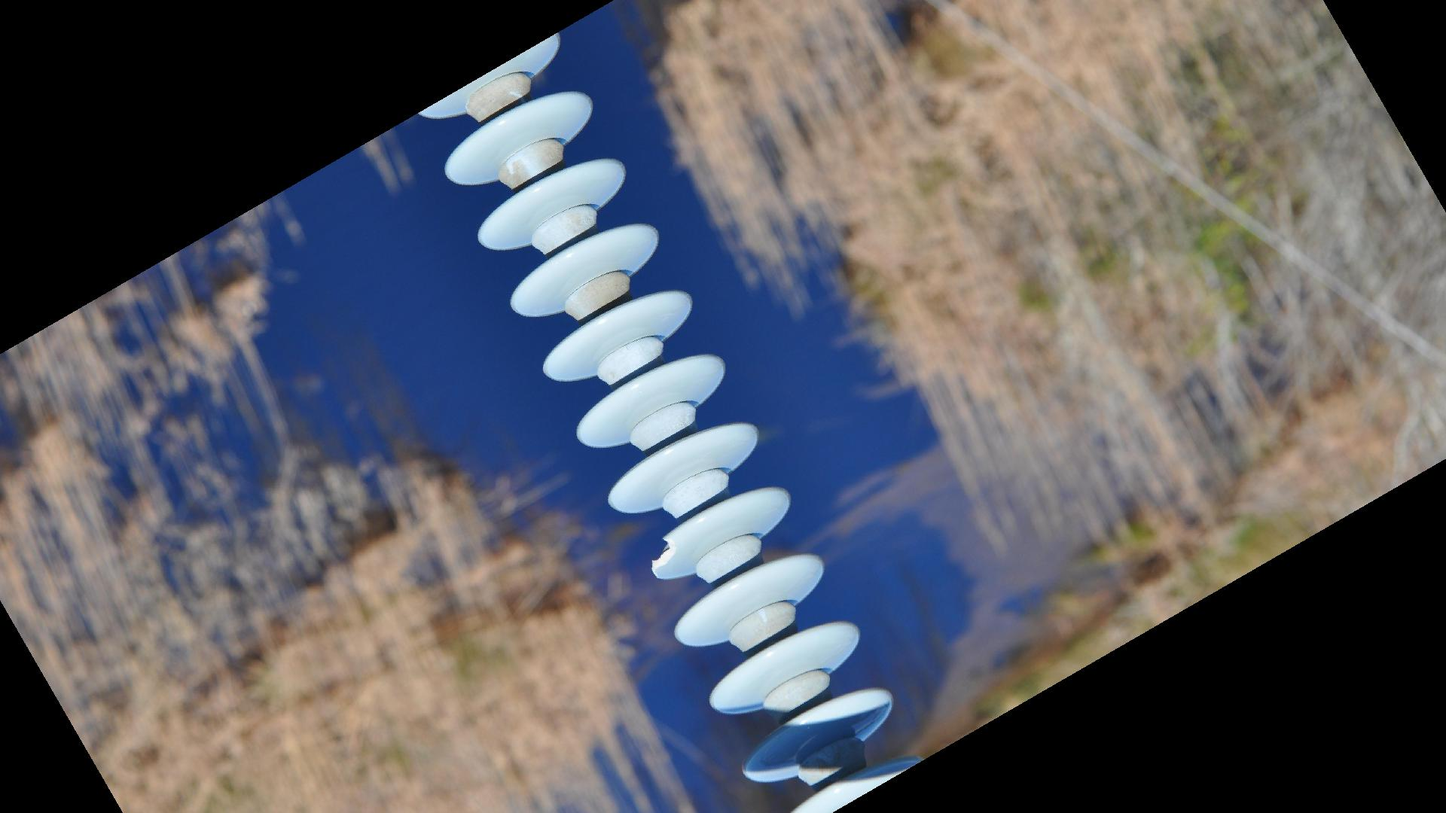insulator: (413, 26, 928, 813)
insulator_breakage: (645, 531, 679, 579)
